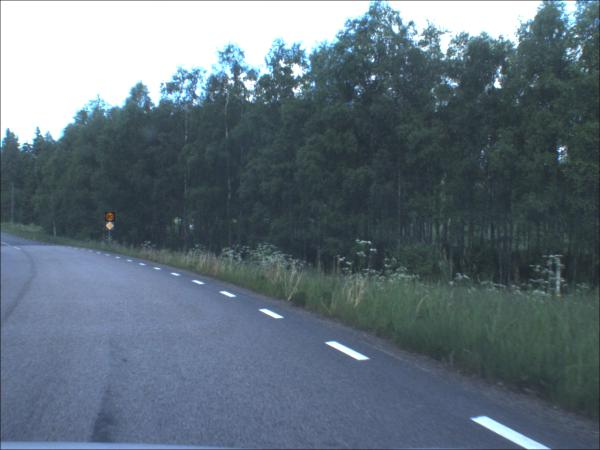80_SIGN: (106, 213, 117, 223)
PRIORITY_ROAD: (107, 223, 116, 232)
